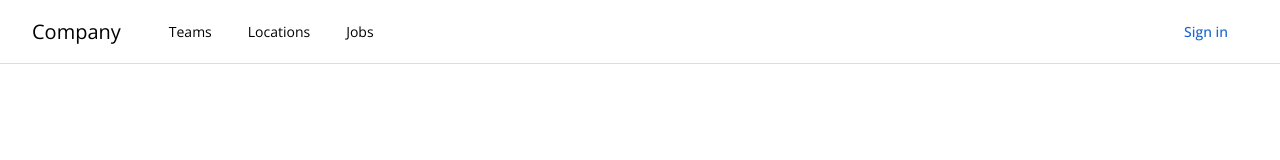
Test: main navigation › displays subnav with additional info
Click the button with test id "login-button".
click(1206, 32)  # box [1164,10,1248,54]
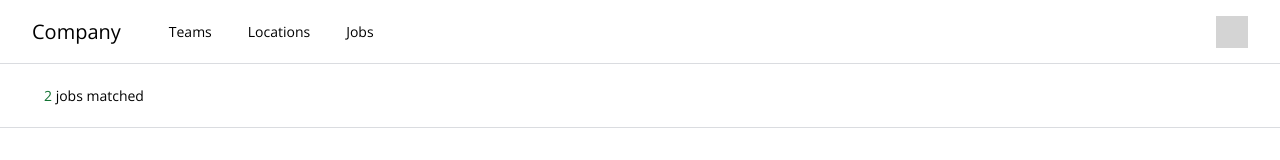
Expected: the element with test id "sub-nav" is shown, [0,64,1279,128]
